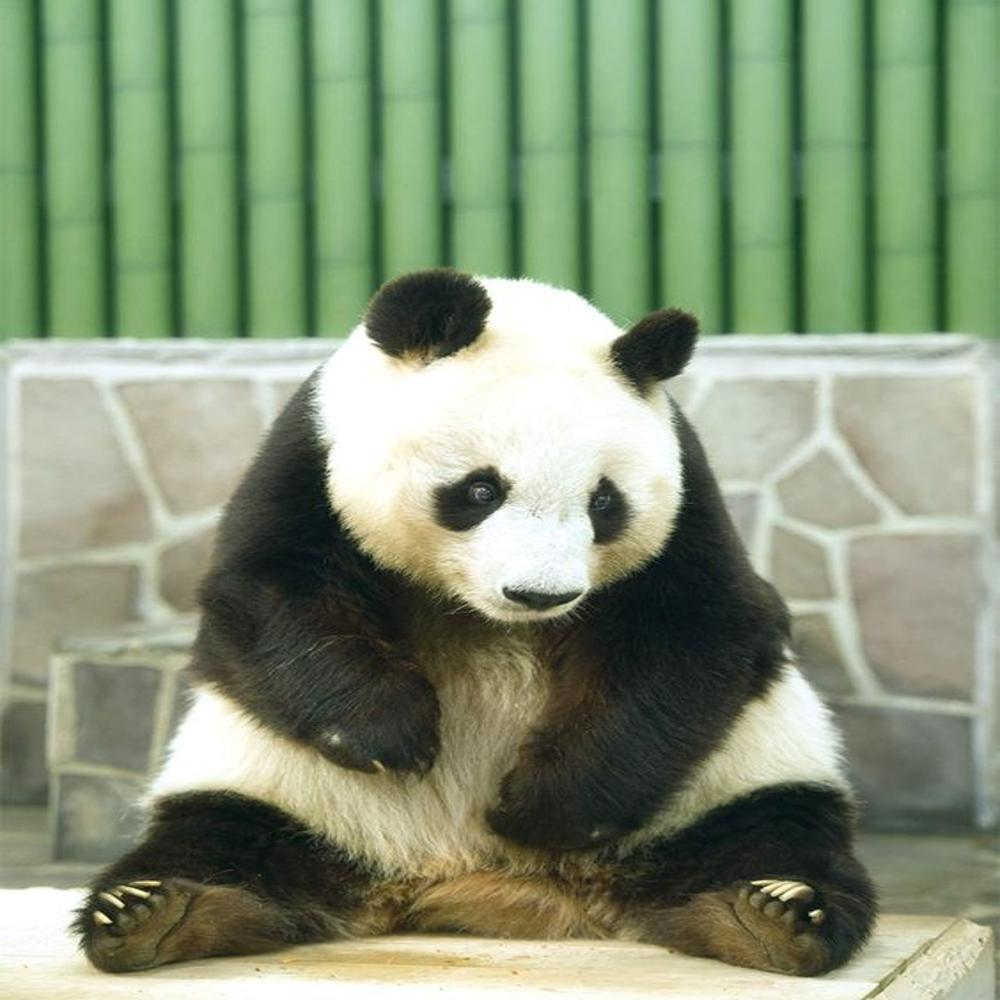panda: (76, 260, 884, 980)
